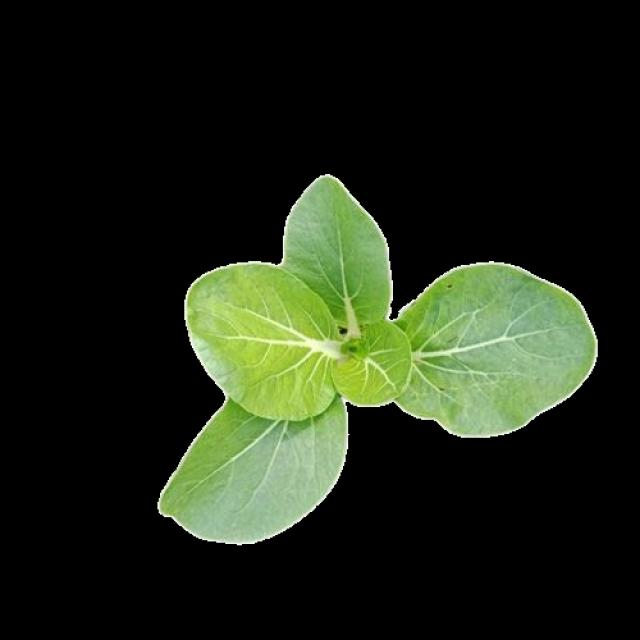not-mature: (156, 180, 592, 542)
unhealthy: (390, 266, 596, 435)
